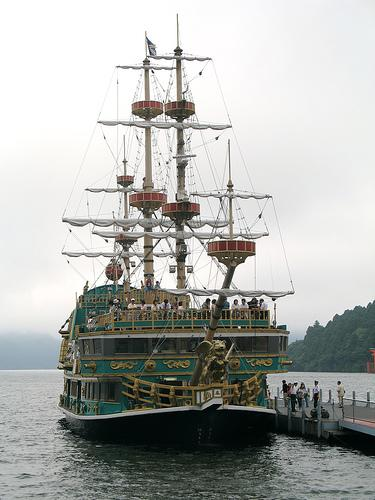Ship: (62, 16, 296, 457)
